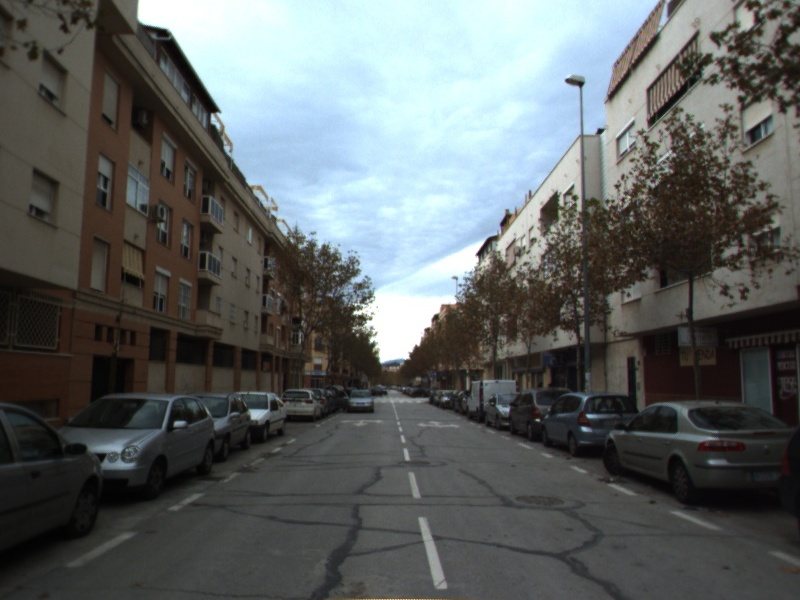STRAIGHT_LEFT_RIGHT: (415, 417, 462, 430)
